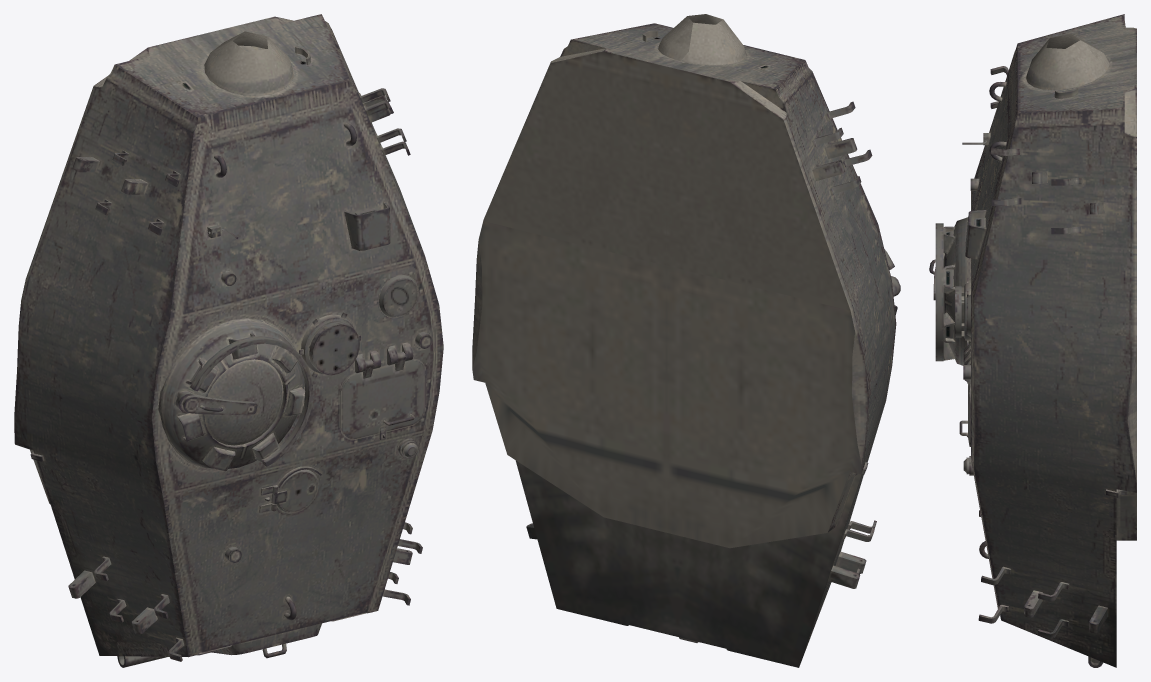
The model's file is Turret_02.glb.
3 views of the same model, side by side, from view 1: azimuth 30°, elevation 25°; view 2: azimuth 150°, elevation 25°; view 3: azimuth 270°, elevation 25° (orthographic). The views are drawn at different scales.
Visible parts, largest first — view 1: set_0_group_0; view 2: set_0_group_0; view 3: set_0_group_0.
Boxes of the visible parts, x1,y1,x2,y2 form: set_0_group_0: (14, 14, 443, 667); set_0_group_0: (472, 14, 900, 667); set_0_group_0: (929, 14, 1136, 667).
Size of the model in its own units: 2.57 by 3.81 by 1.23.
1 material, 1 textured.
